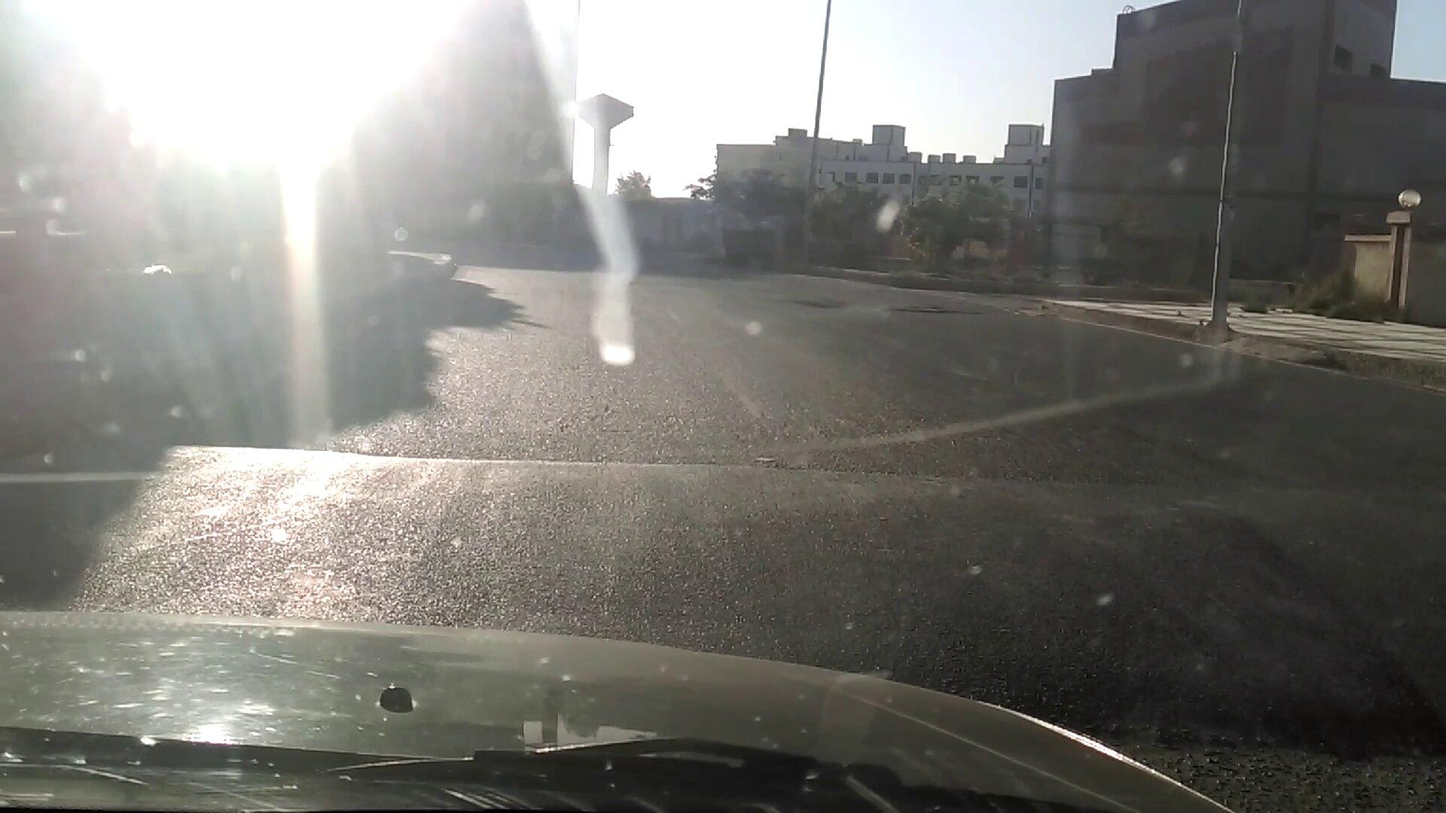Bump: (53, 423, 1425, 730)
